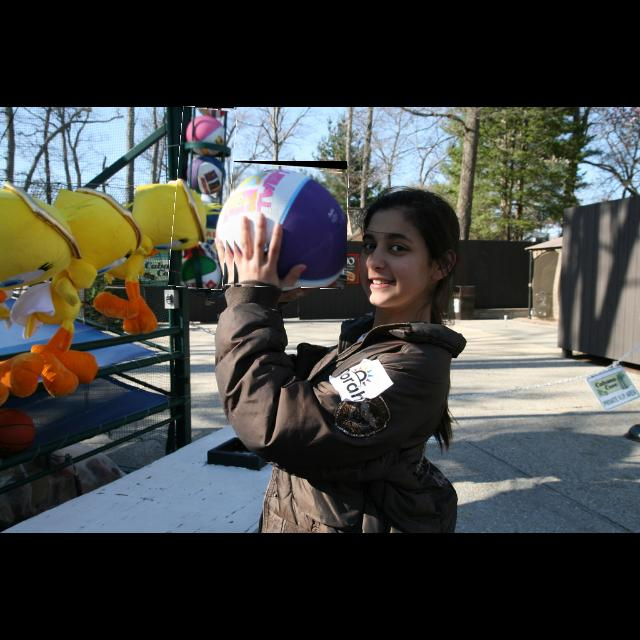Football: (219, 161, 347, 287), (172, 107, 234, 289)
